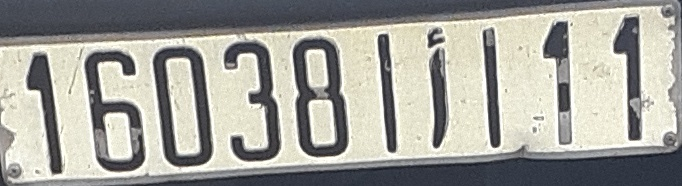0: (151, 46, 216, 168)
1: (23, 51, 64, 176), (539, 19, 577, 147), (610, 12, 647, 143)
3: (221, 38, 286, 163)
6: (84, 49, 149, 174)
8: (290, 35, 352, 160)
a: (423, 25, 454, 150)
